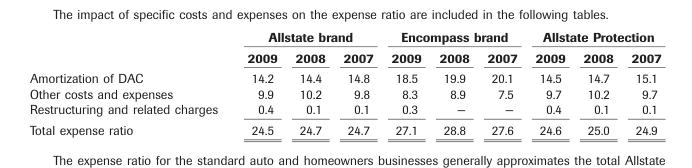table: (28, 28, 660, 137)
table column: (28, 28, 231, 137), (231, 28, 285, 137), (285, 28, 333, 137), (333, 28, 381, 137), (381, 28, 429, 137), (429, 28, 477, 137), (477, 28, 525, 137), (525, 28, 573, 137), (573, 28, 621, 137), (621, 28, 660, 137)
table column header: (28, 28, 660, 67)
table row: (28, 46, 660, 67), (28, 28, 660, 46), (28, 67, 660, 85), (28, 101, 660, 119), (28, 119, 660, 137), (28, 85, 660, 101)
table spanning cell: (231, 28, 381, 46), (381, 28, 525, 46), (525, 28, 660, 46)
